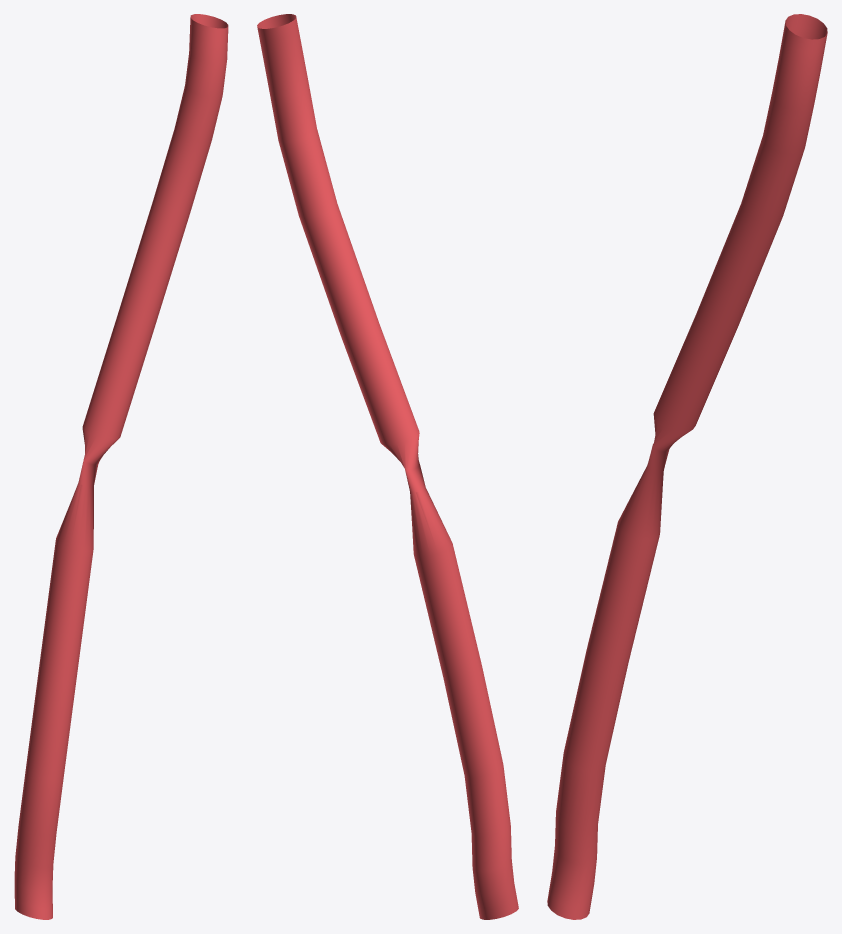
File: twisted_wire.gltf
The picture shows the model from 3 angles, left to right: view 1: azimuth 30°, elevation 25°; view 2: azimuth 150°, elevation 25°; view 3: azimuth 330°, elevation 25°; orthographic projection. The views are drawn at different scales.
Visible parts, largest first — view 1: wire_twisted_1; view 2: wire_twisted_1; view 3: wire_twisted_1.
Part boxes in pixels (x1,y1,x2,y2): wire_twisted_1: (14, 14, 228, 919); wire_twisted_1: (257, 14, 518, 919); wire_twisted_1: (547, 14, 827, 919).
Size of the model in its own units: 0.5781 by 2.03 by 0.1743.
